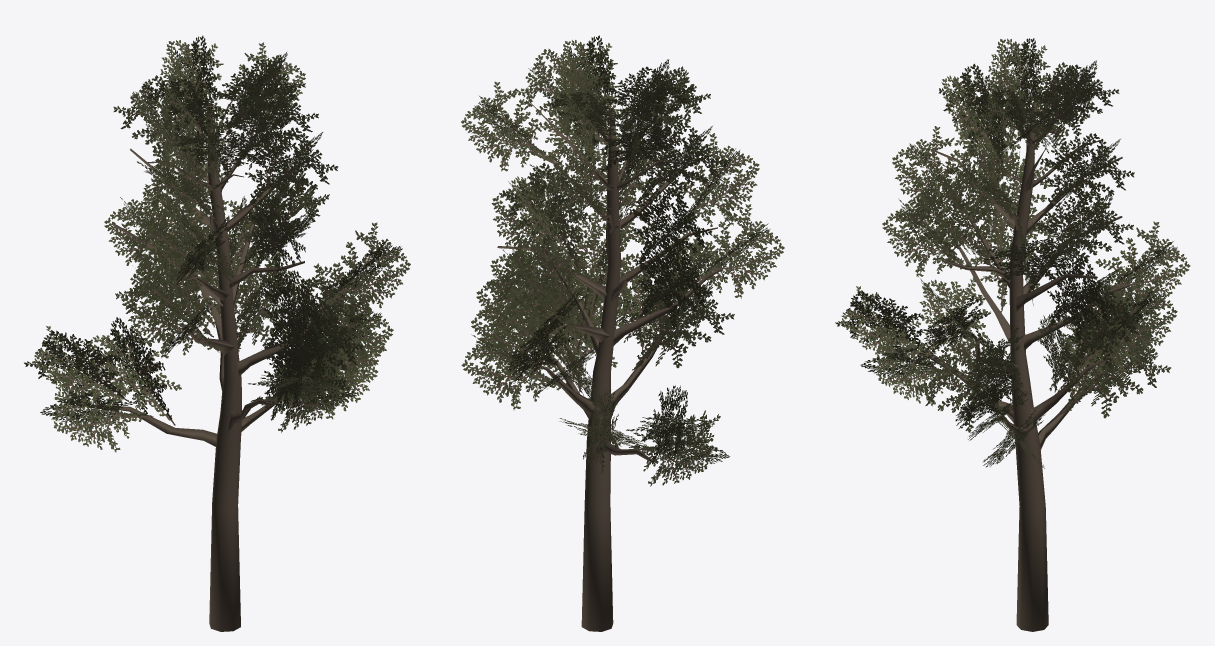
Rendered from OAK.fbx.
3 renders of one model, left to right at view 1: azimuth 30°, elevation 25°; view 2: azimuth 150°, elevation 25°; view 3: azimuth 270°, elevation 25°, orthographic. The views are drawn at different scales.
Visible parts, largest first — view 1: tree.118, tree.119; view 2: tree.118, tree.119; view 3: tree.118, tree.119.
Boxes of the visible parts, x1,y1,x2,y2 form: tree.118: (24,35,410,452); tree.119: (95,99,349,631); tree.118: (461,35,784,486); tree.119: (497,98,722,631); tree.118: (835,38,1190,468); tree.119: (904,103,1130,631).
Bounding box in the file's own units: 1228 × 2103 × 1258.
